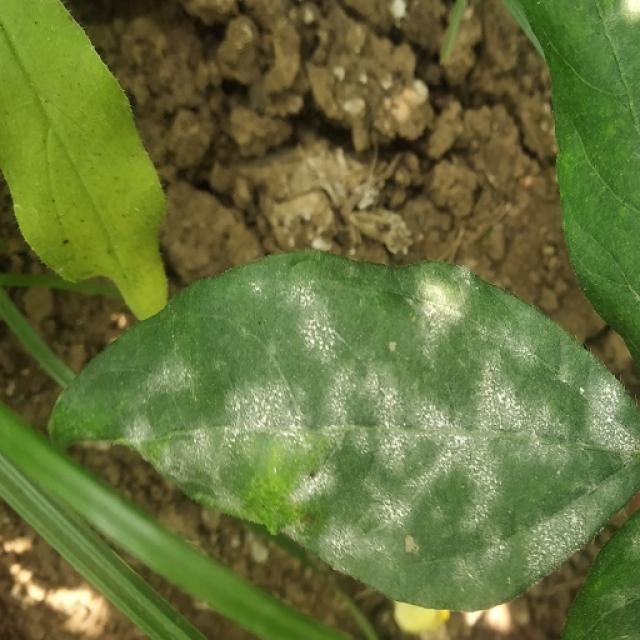Blackgram: (50, 252, 639, 609)
Powdery_Mildew: (222, 294, 580, 554), (378, 282, 601, 438), (385, 423, 533, 533), (206, 328, 340, 441), (337, 328, 466, 443), (449, 346, 558, 433), (280, 285, 363, 375), (276, 276, 351, 362), (573, 365, 635, 447), (412, 275, 463, 324), (506, 575, 513, 585), (579, 386, 585, 394), (272, 467, 278, 475)
